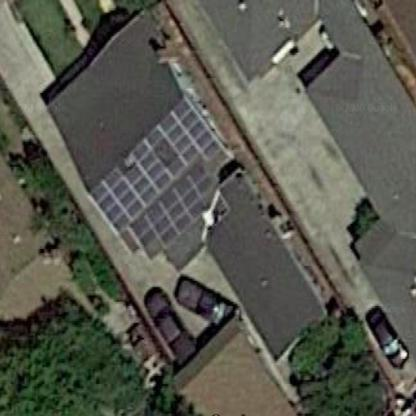car: (132, 280, 201, 361), (173, 267, 241, 328), (362, 298, 410, 376)
solar_panel: (80, 97, 232, 262)
